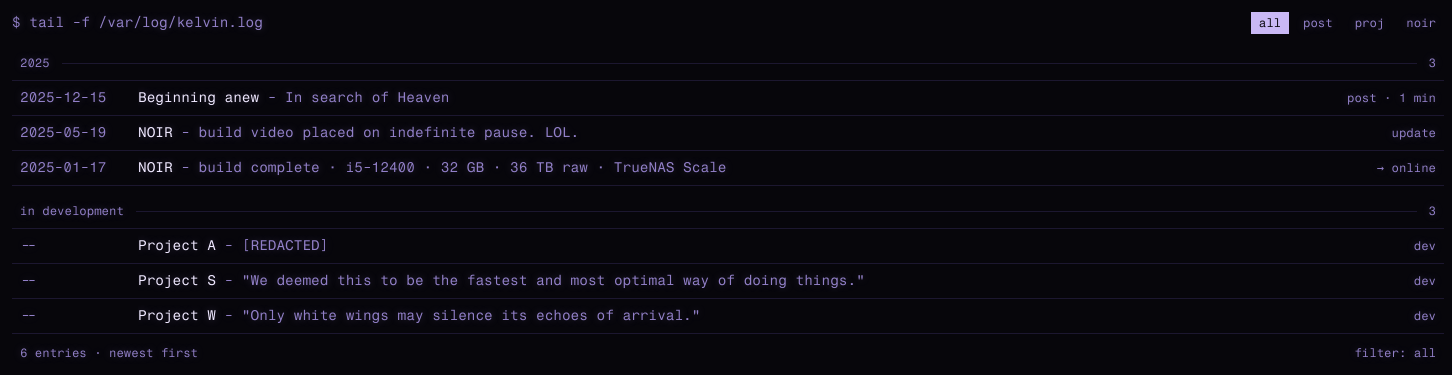
Test: Home › filters down to the single post entry
Step 1. Click the button "post" → click(1318, 23), box [1295,12,1341,34]
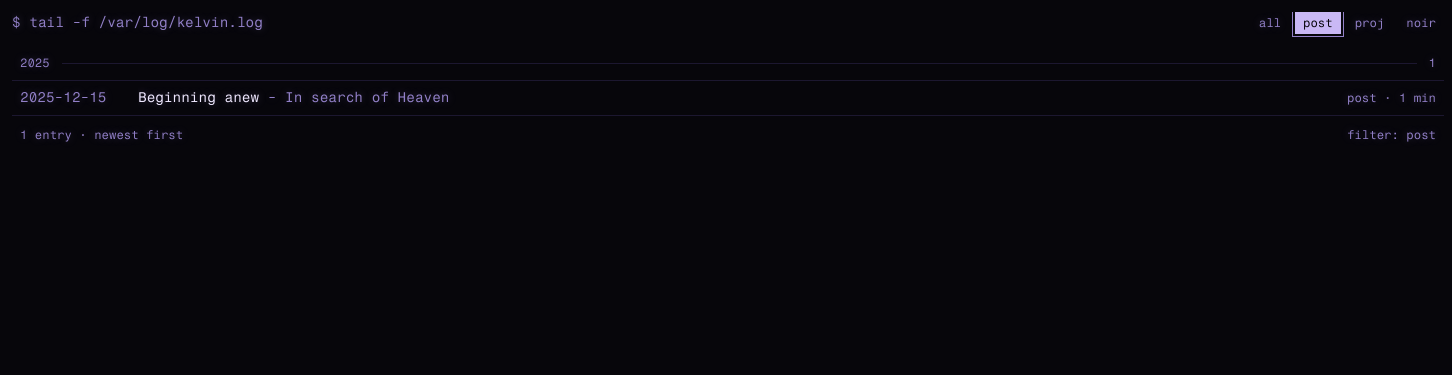
Expected: the text "1 entry · newest first" is shown, [20,124,183,146]
Expected: the text "filter: post" is shown, [1347,124,1436,146]
